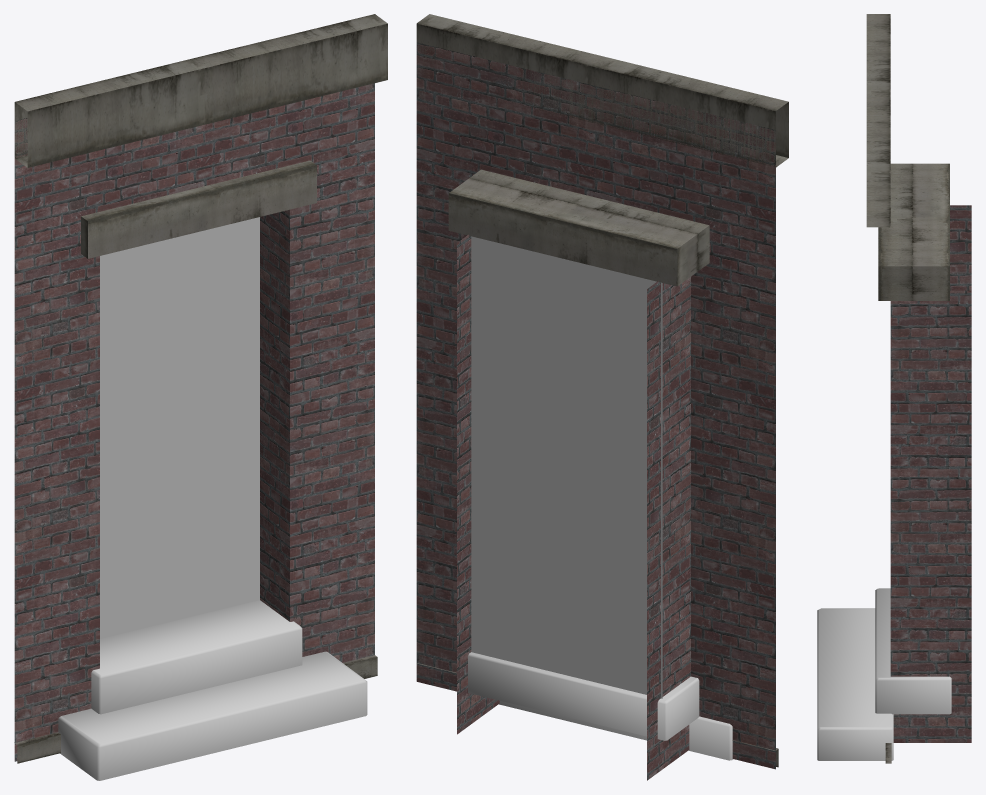
The model's file is Wall_A_Brick_Door_C_2x.FBX.
3 views of the same model, side by side, from view 1: azimuth 30°, elevation 25°; view 2: azimuth 150°, elevation 25°; view 3: azimuth 270°, elevation 25° (orthographic). The views are drawn at different scales.
Visible parts, largest first — view 1: Wall_A_Brick_Door_C_2x; view 2: Wall_A_Brick_Door_C_2x; view 3: Wall_A_Brick_Door_C_2x.
Boxes of the visible parts, left/top/right/bottom form: Wall_A_Brick_Door_C_2x: left=14, top=14, right=387, bottom=780; Wall_A_Brick_Door_C_2x: left=416, top=14, right=788, bottom=780; Wall_A_Brick_Door_C_2x: left=817, top=14, right=971, bottom=763.
Size of the model in its own units: 200 by 351 by 80.95.
